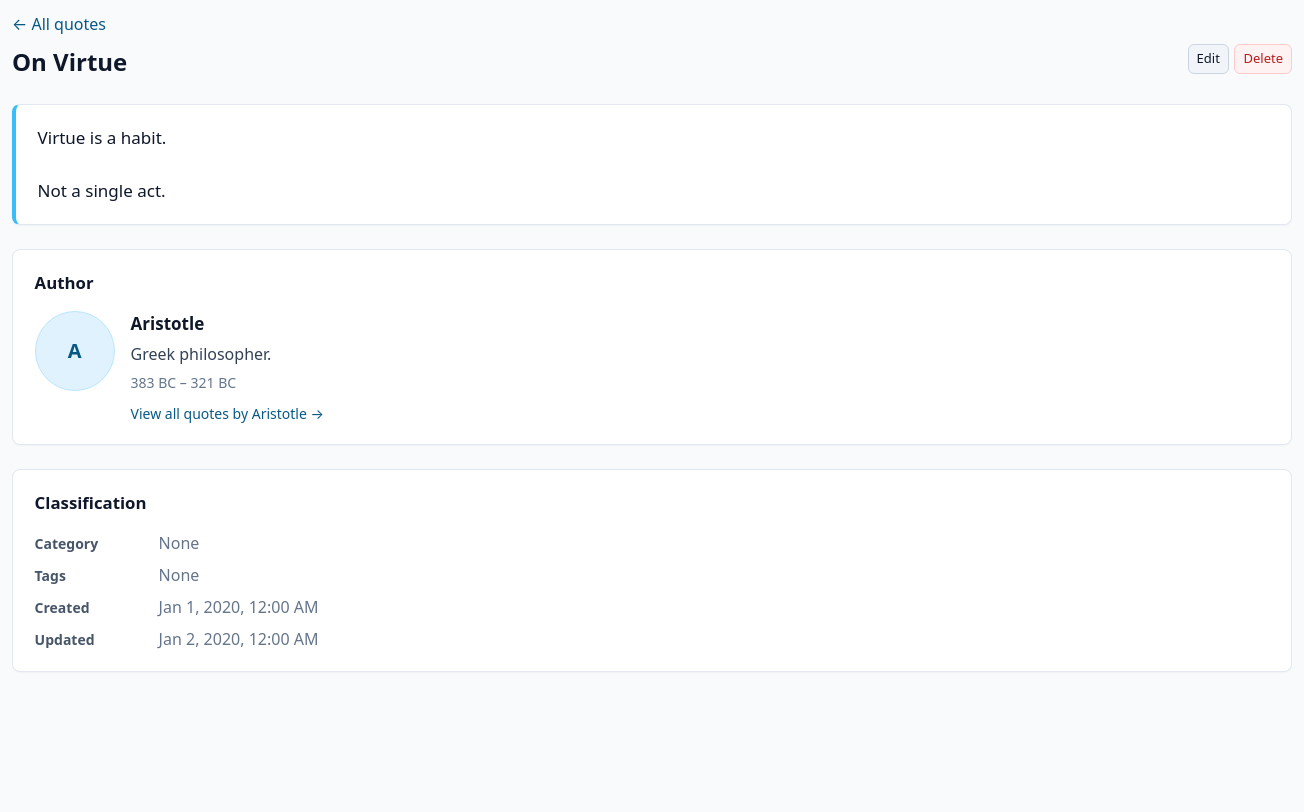
Test: QuoteDetailPage › inline edit affordance › entering edit mode mounts <QuoteForm> seeded from the quote and hides Edit / Delete
The width and height of the screenshot is (1304, 812).
Expected: the heading "On Virtue" is shown, [12,44,127,80]
What coordinates should you click on to do the following:
click the button with aria-label "Edit On Virtue"
I would click on:
 (1208, 59)
Its box is [1188,44,1229,74].
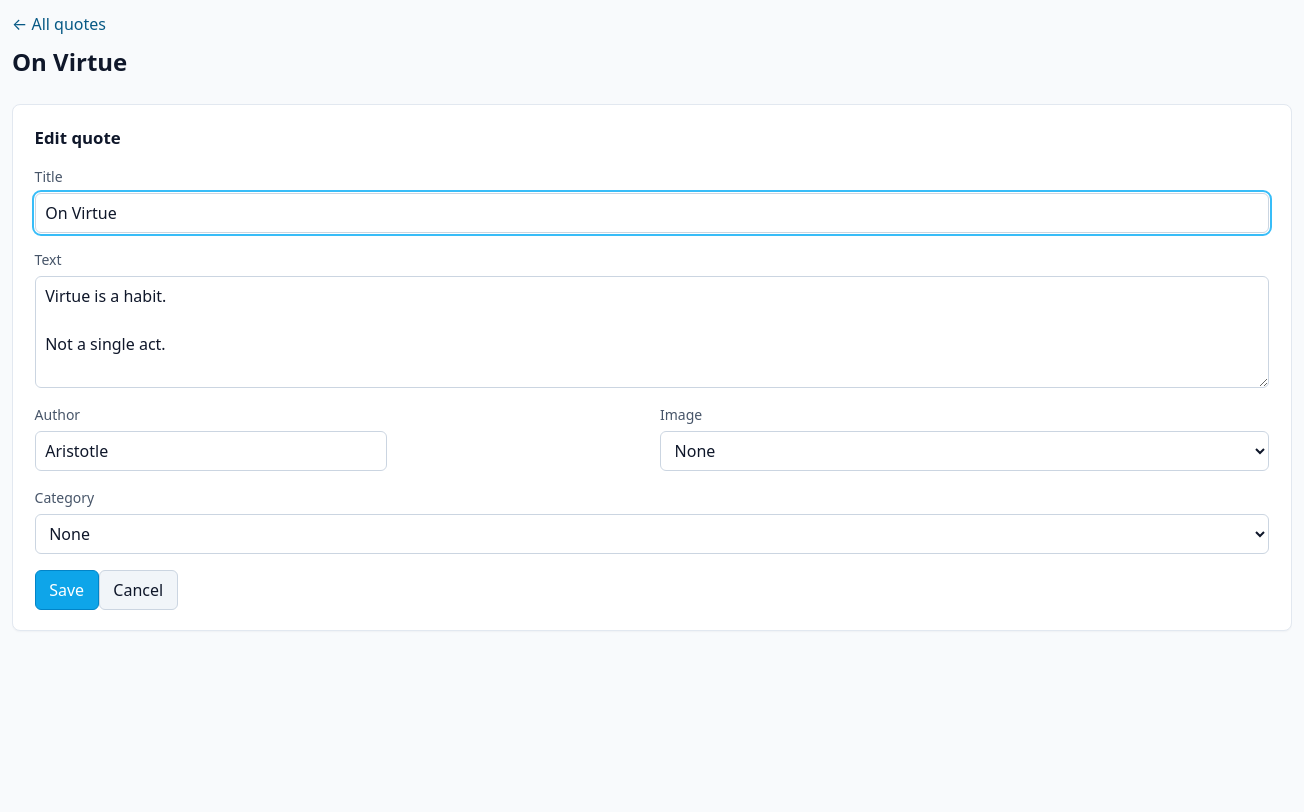
Expected: the field named "title — on virtue" holds "On Virtue", [35,193,1269,233]
Expected: the button "Delete" is gone
Expected: the heading "Classification" is gone
